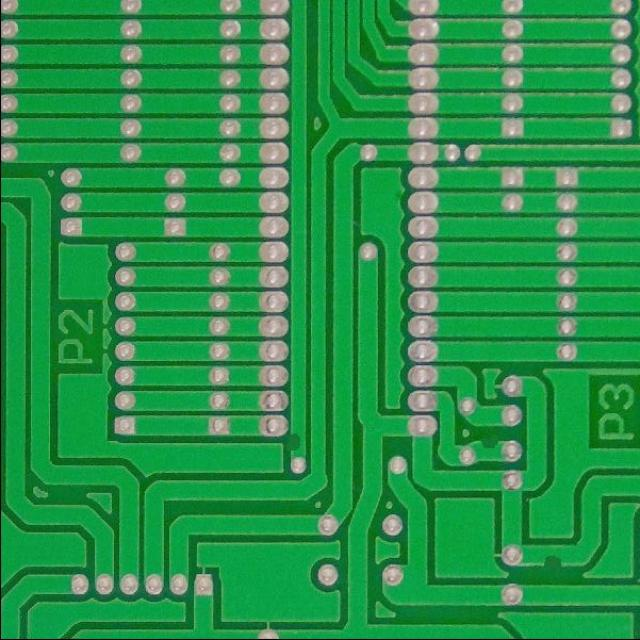mouse_bite: (536, 545, 568, 574), (284, 426, 307, 463), (474, 436, 503, 454)
